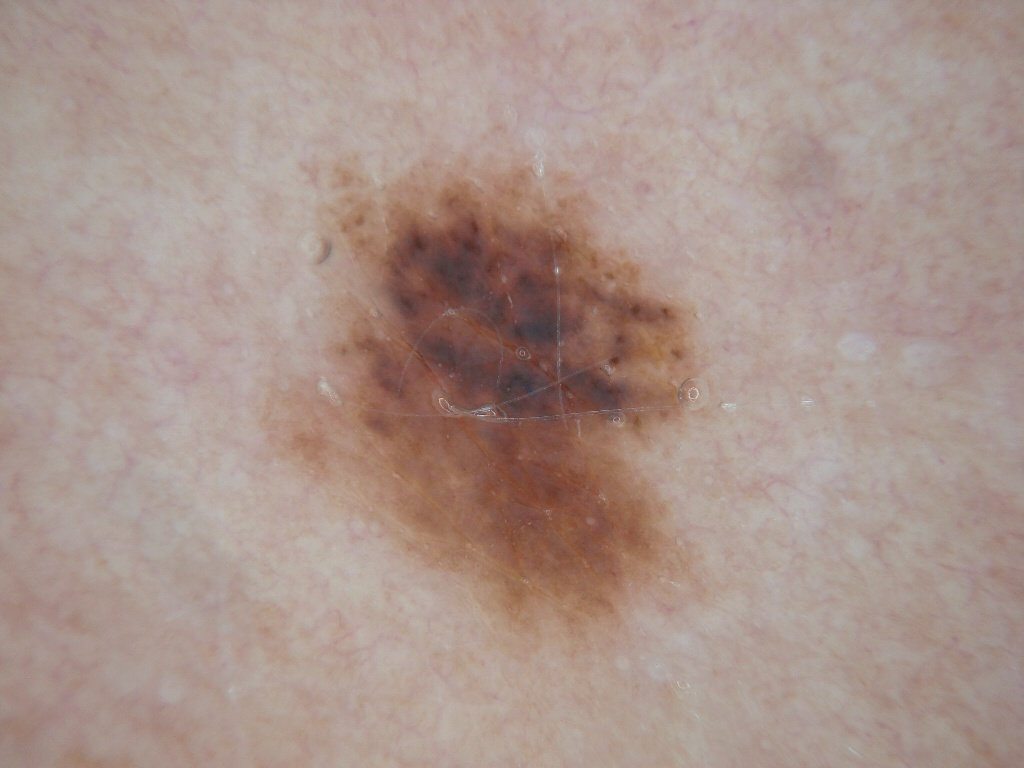Detected Lesion: (254, 159, 722, 645)
